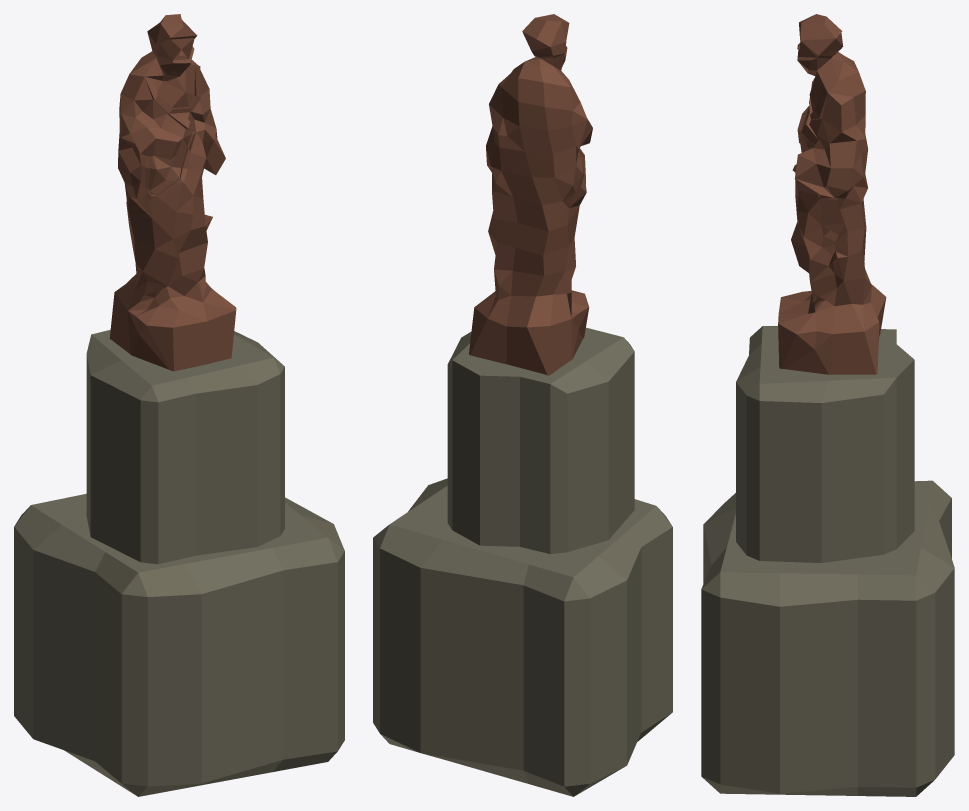
Rendered from EstatuaCobreNUEVO.fbx.
3 views of the same model, side by side, from view 1: azimuth 30°, elevation 25°; view 2: azimuth 150°, elevation 25°; view 3: azimuth 270°, elevation 25° (orthographic). The views are drawn at different scales.
Visible parts, largest first — view 1: Cube, Marcus_C; view 2: Cube, Marcus_C; view 3: Cube, Marcus_C.
Boxes of the visible parts, <box> form: Cube: <box>14,330,344,796</box>; Marcus_C: <box>109,14,236,371</box>; Cube: <box>373,327,672,796</box>; Marcus_C: <box>469,14,592,375</box>; Cube: <box>701,326,954,796</box>; Marcus_C: <box>778,14,886,374</box>.
Bounding box in the file's own units: 78.98 × 220 × 69.71.
